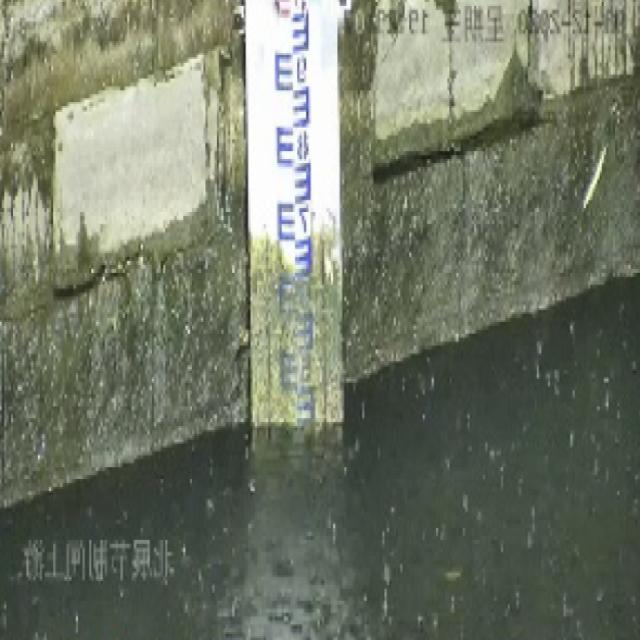water-level-meters: (250, 0, 338, 591)
